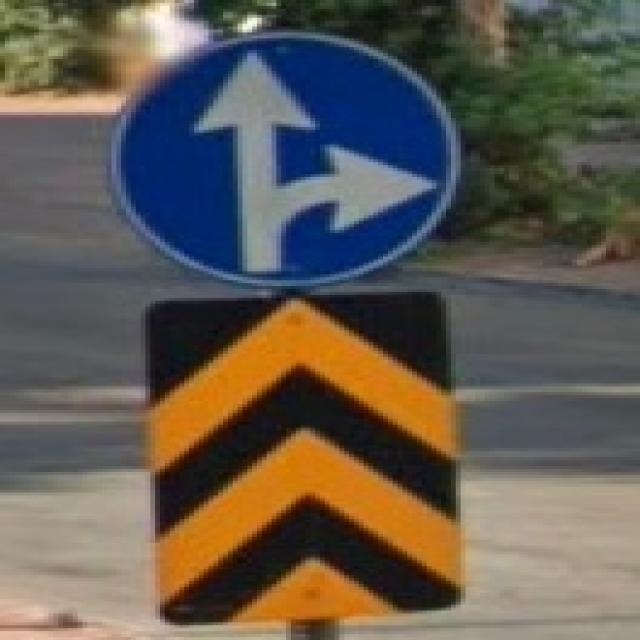Straight or Right: (118, 35, 467, 283)
